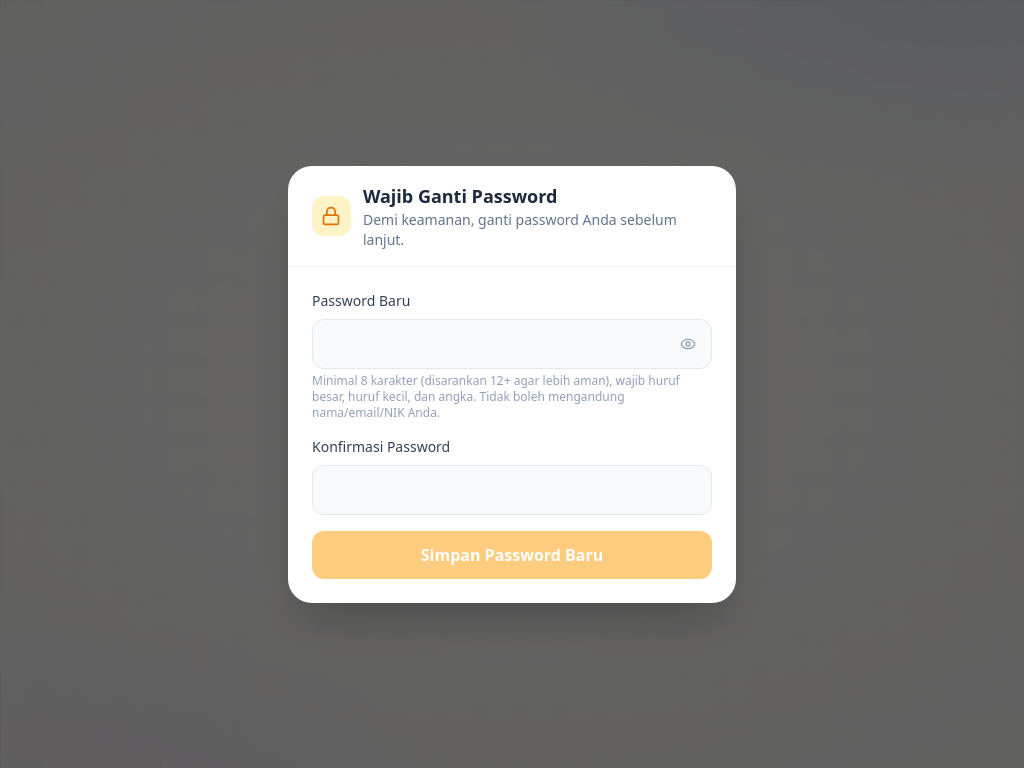
Test: MustChangePasswordDialog › menolak tanpa huruf besar/kecil/angka
Type "alllowercase12" into the password field labelled "Password Baru".
click(512, 344); type("alllowercase12")  # box x1=312 y1=318 x2=712 y2=368
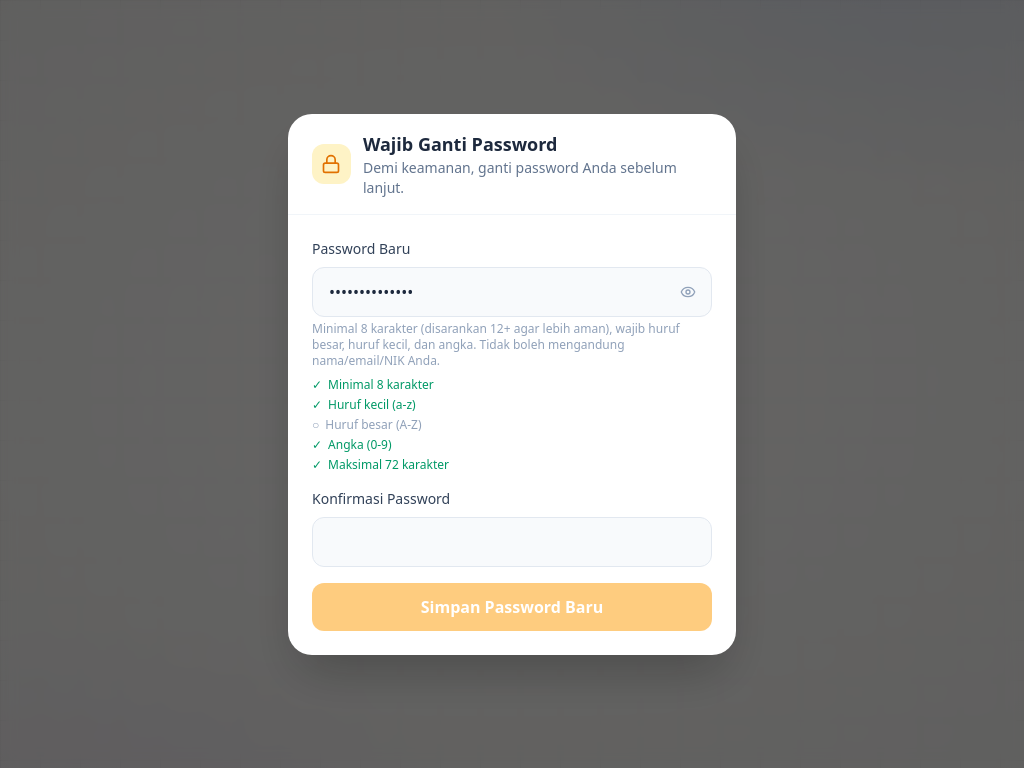
Type "alllowercase12" into the password field labelled "Konfirmasi Password".
click(512, 542); type("alllowercase12")  # box x1=312 y1=516 x2=712 y2=566
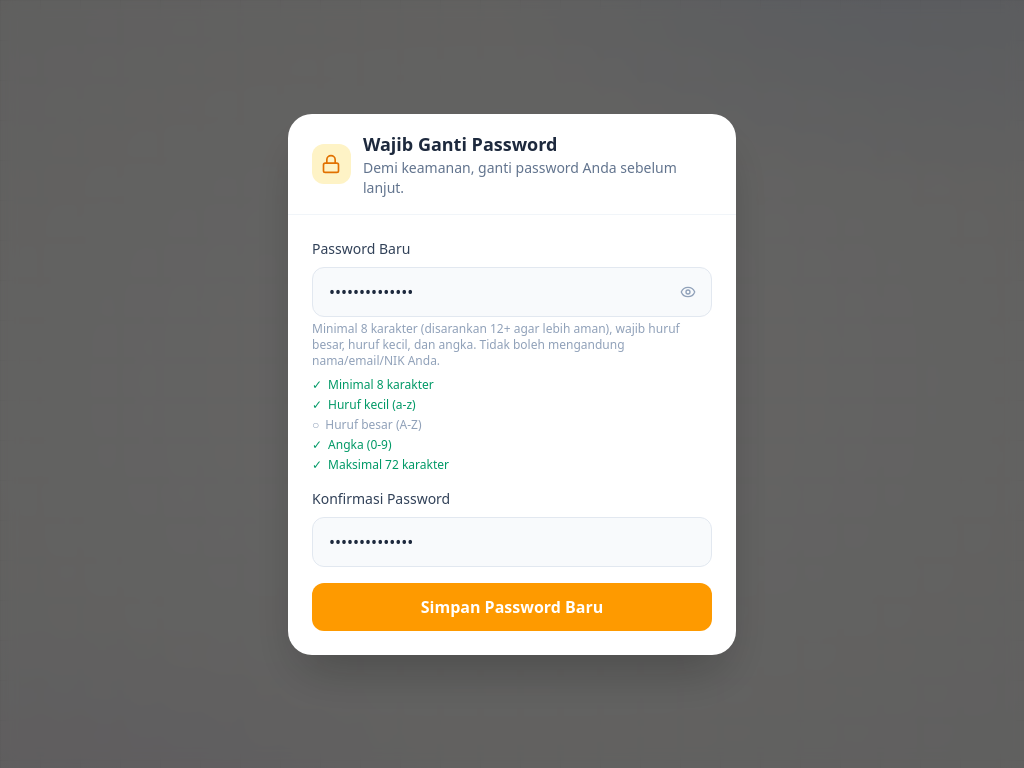
Click the button "Simpan Password Baru".
click(512, 606)  # box x1=312 y1=582 x2=712 y2=630
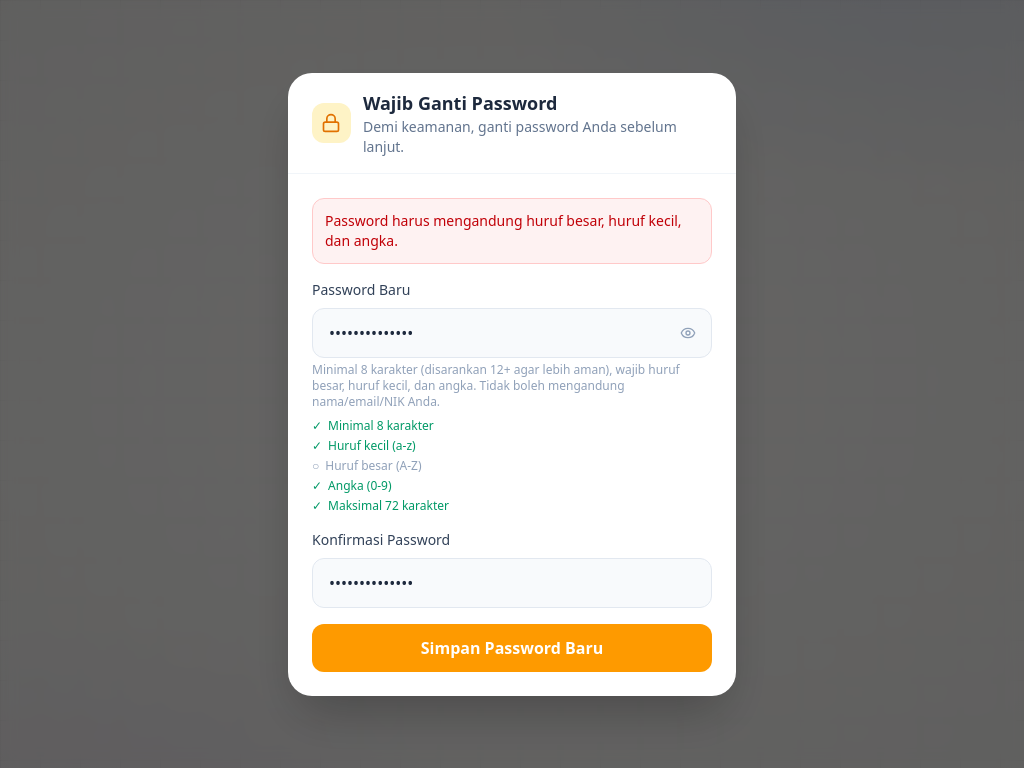
Result: the text "huruf besar" is shown at x1=325 y1=210 x2=682 y2=250
